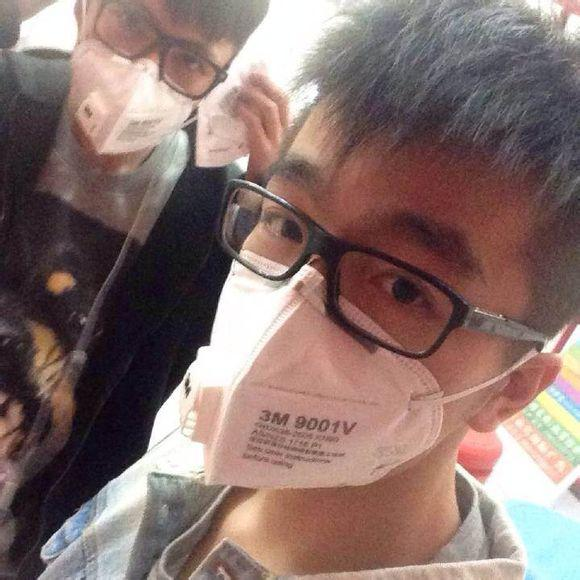OK: (193, 142, 504, 474), (70, 1, 239, 161)
